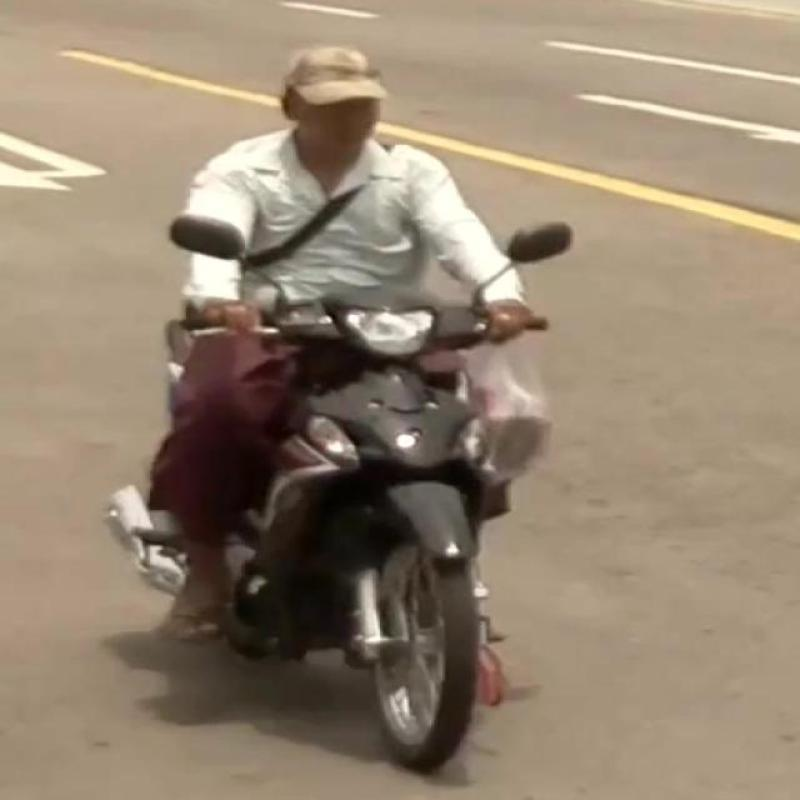nohelmet: (268, 37, 407, 167)
